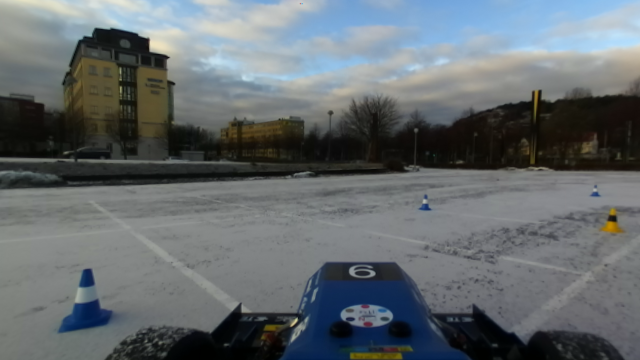blue: (56, 265, 112, 331), (417, 194, 433, 211), (589, 181, 601, 198)
yellow: (600, 207, 623, 236)
